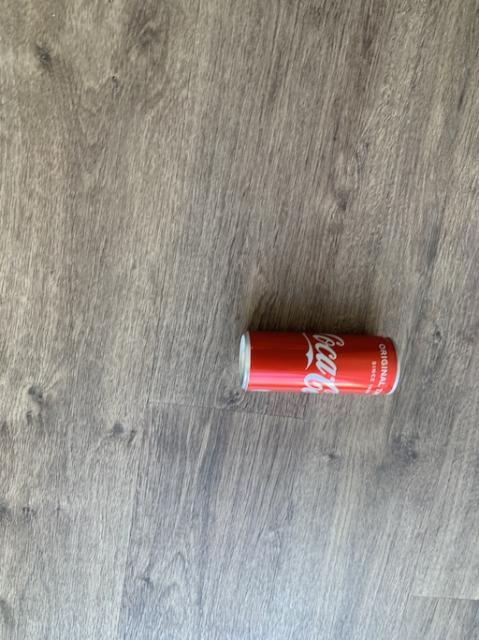metal: (239, 331, 398, 394)
